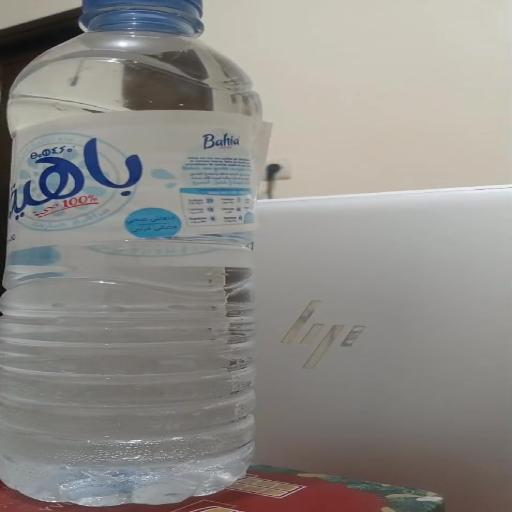bouteille conformite: (34, 3, 271, 502)
